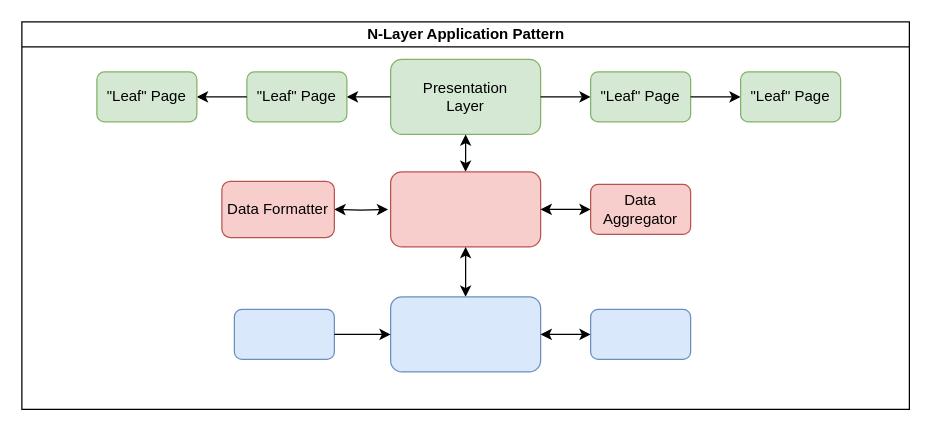
Some shapes in this 931 by 431 pixel diagram are drawn without their labels. The centre of each missing label's shape, as x and y in pixels:
"Controller Layer" belongs at point 465,209.
"Data Layer" belongs at point 465,334.
"Database" belongs at point 283,333.
"Storage Devices" belongs at point 640,333.
